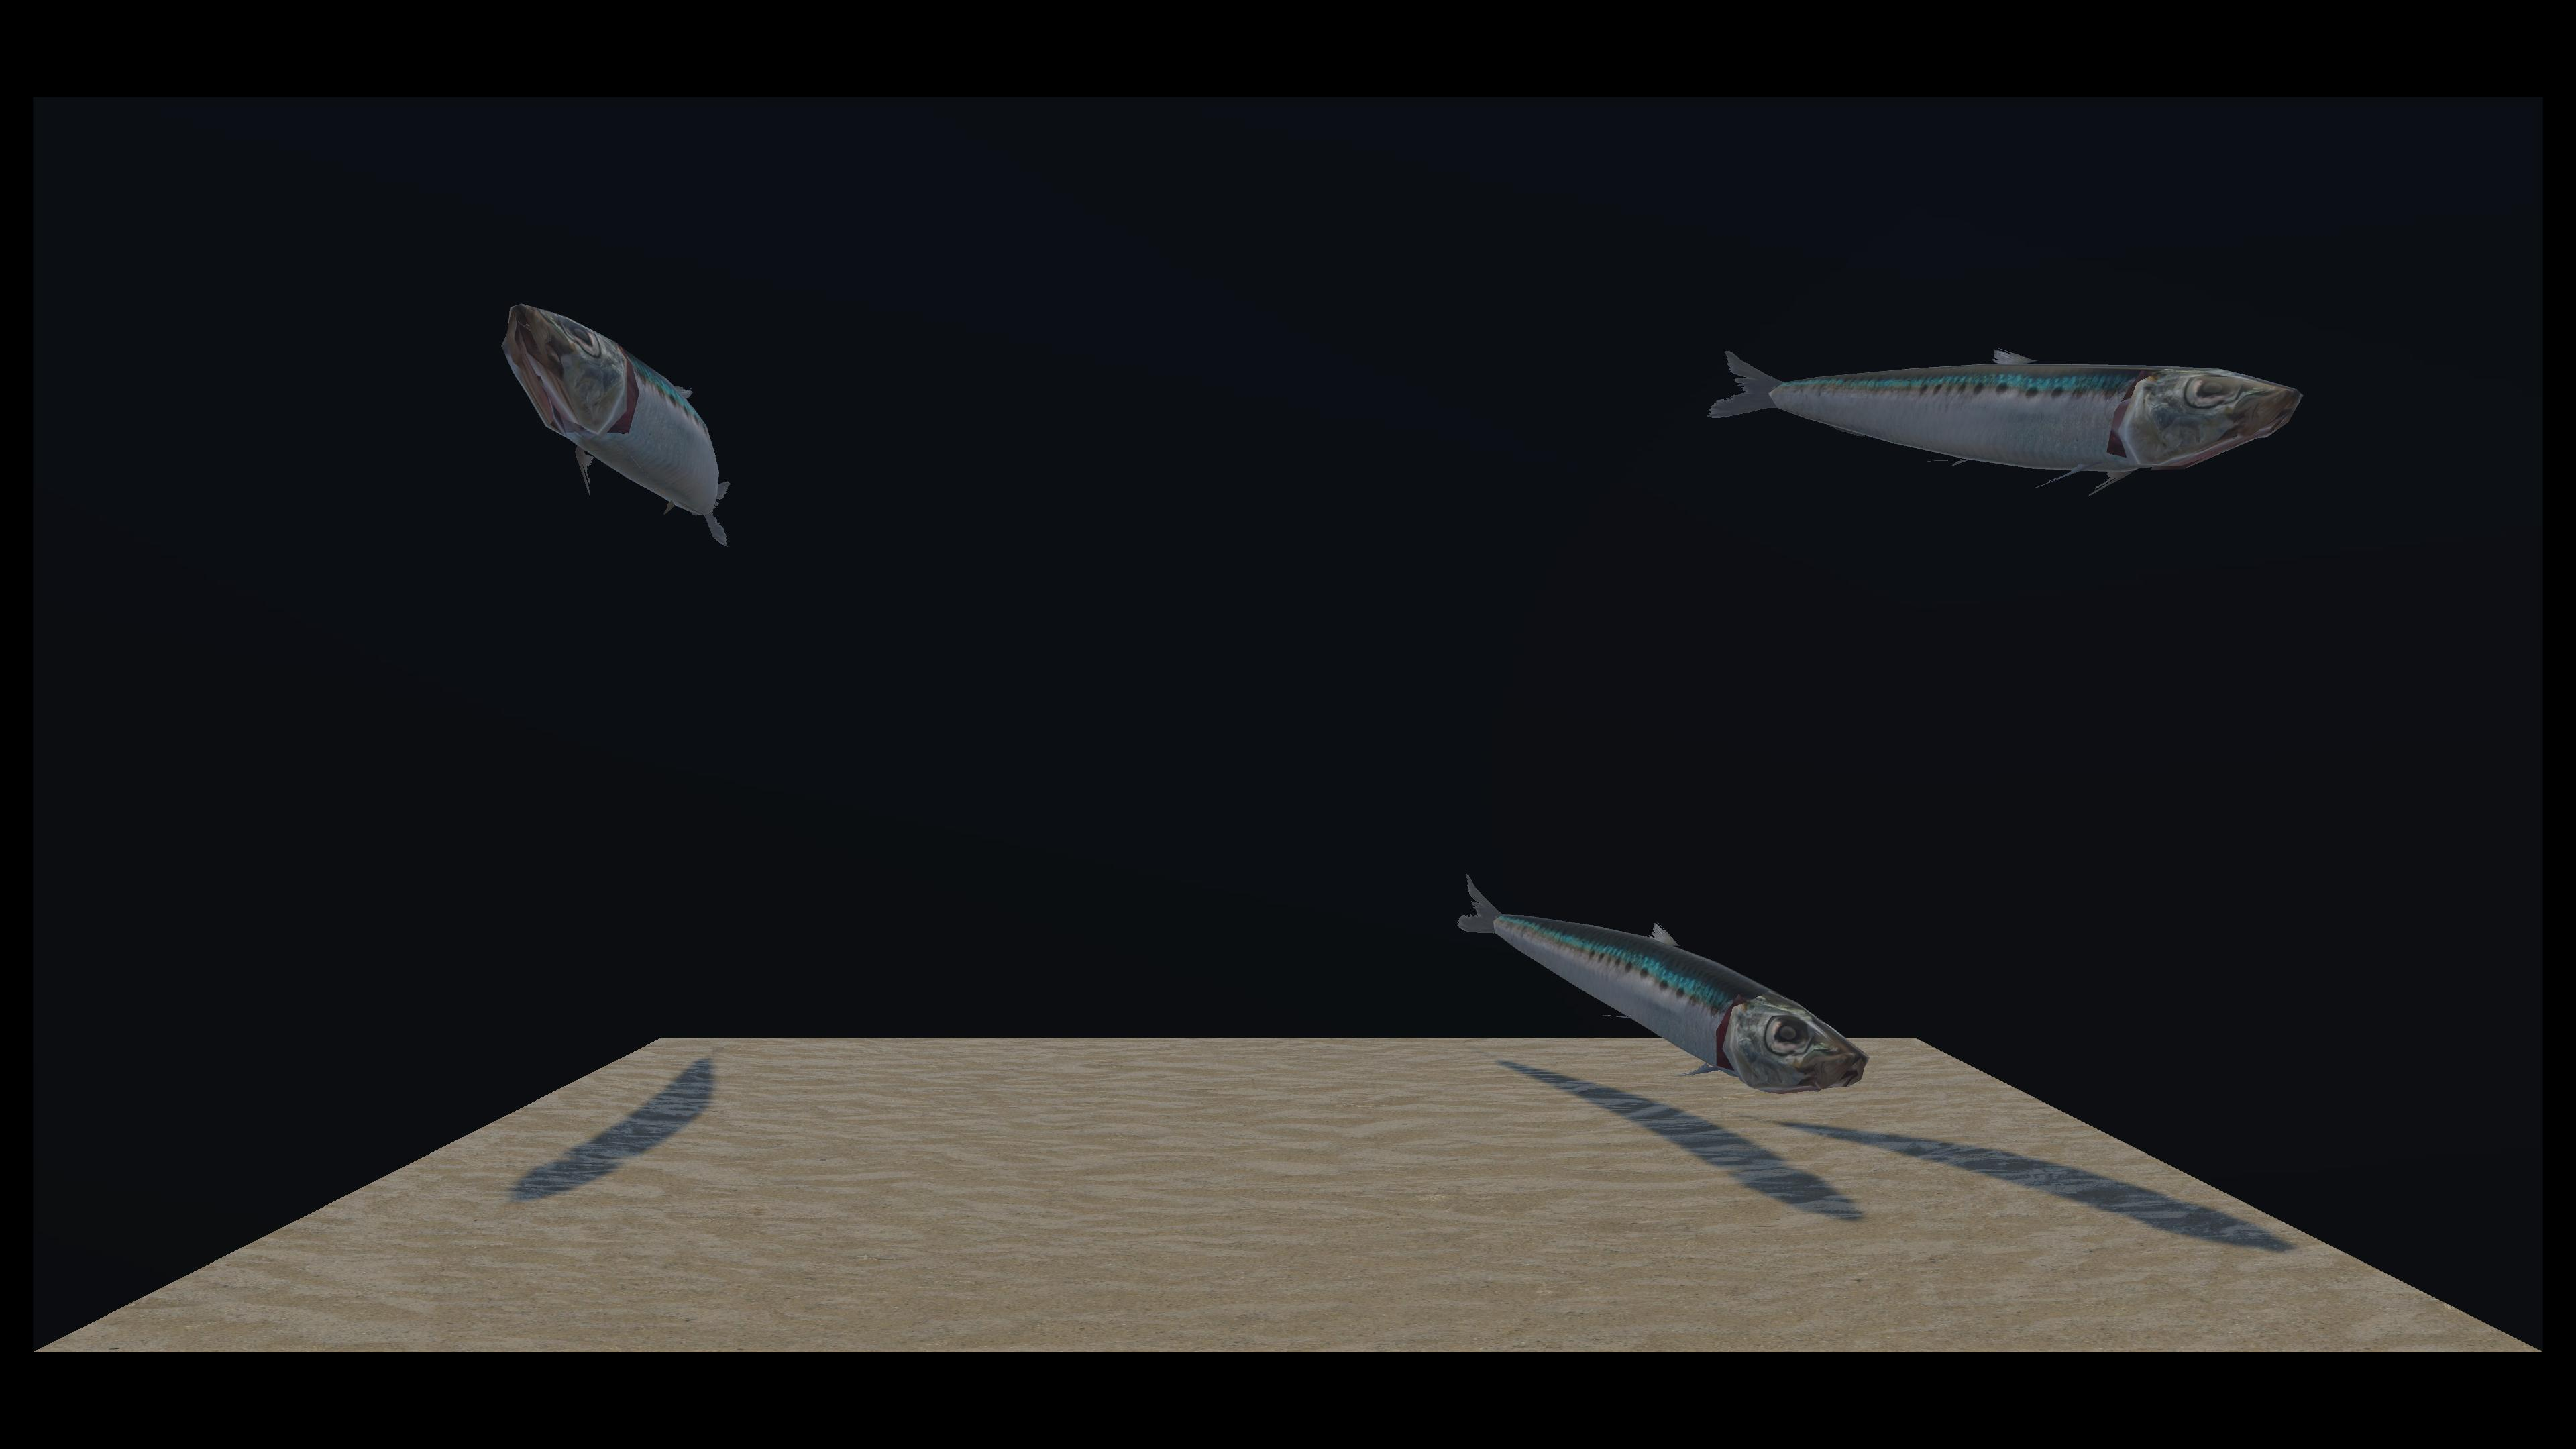Sardine_Front: (559, 379, 1856, 1092), (874, 336, 2291, 508), (522, 306, 729, 545)
